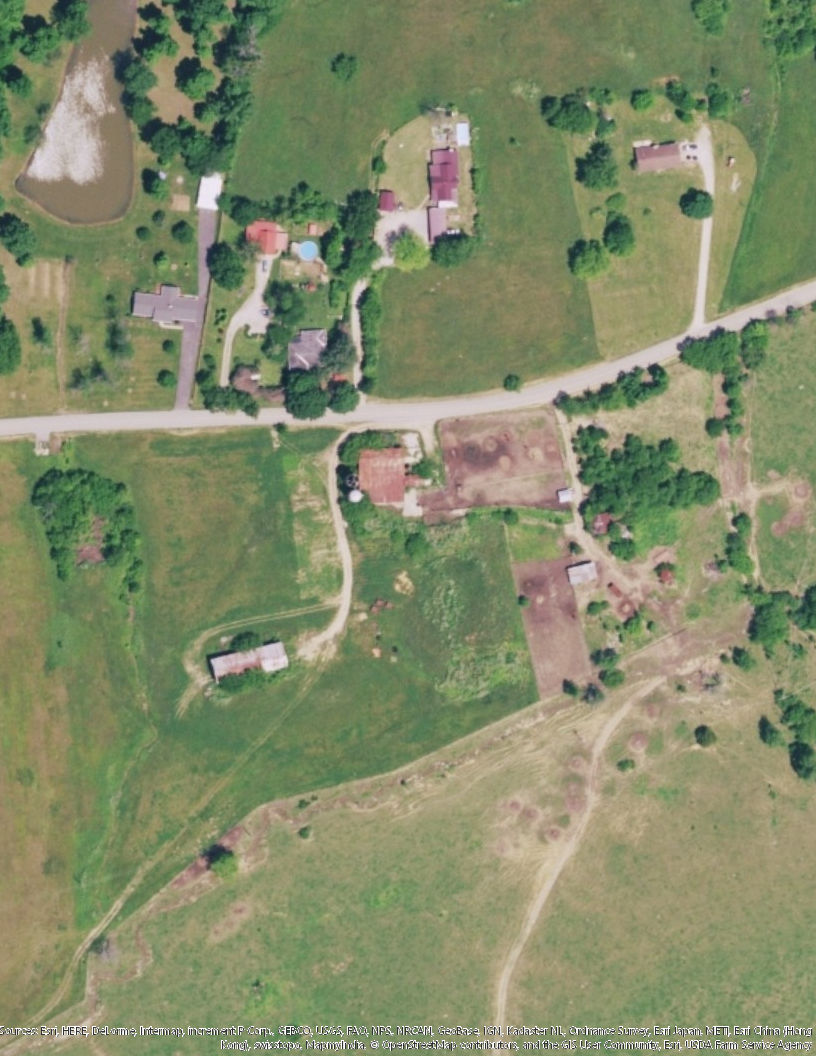cafo: (206, 639, 291, 694), (354, 440, 414, 510)
